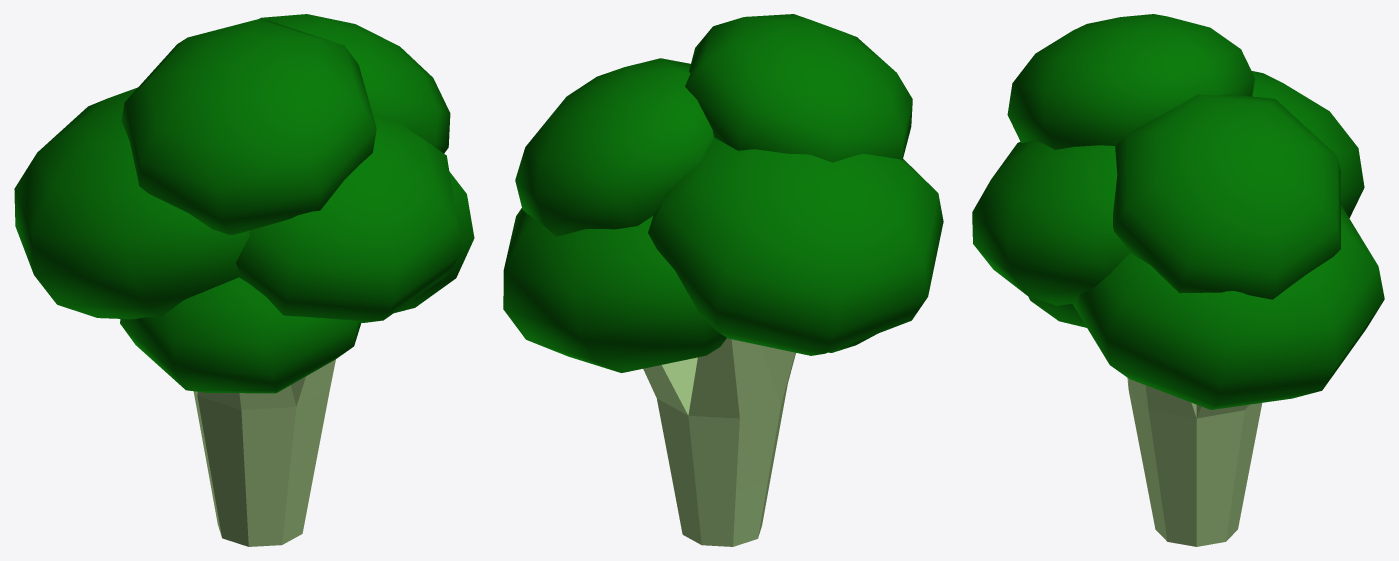
The model's file is brocoli.fbx.
3 renders of one model, left to right at view 1: azimuth 30°, elevation 25°; view 2: azimuth 150°, elevation 25°; view 3: azimuth 270°, elevation 25°, orthographic. The views are drawn at different scales.
Visible parts, largest first — view 1: pCylinder2; view 2: pCylinder2; view 3: pCylinder2.
Part boxes in pixels (box(x1,y1,x2,y2)): pCylinder2: box(14, 14, 474, 546); pCylinder2: box(503, 14, 943, 546); pCylinder2: box(972, 14, 1384, 546).
Size of the model in its own units: 6.96 by 8.06 by 6.17.
